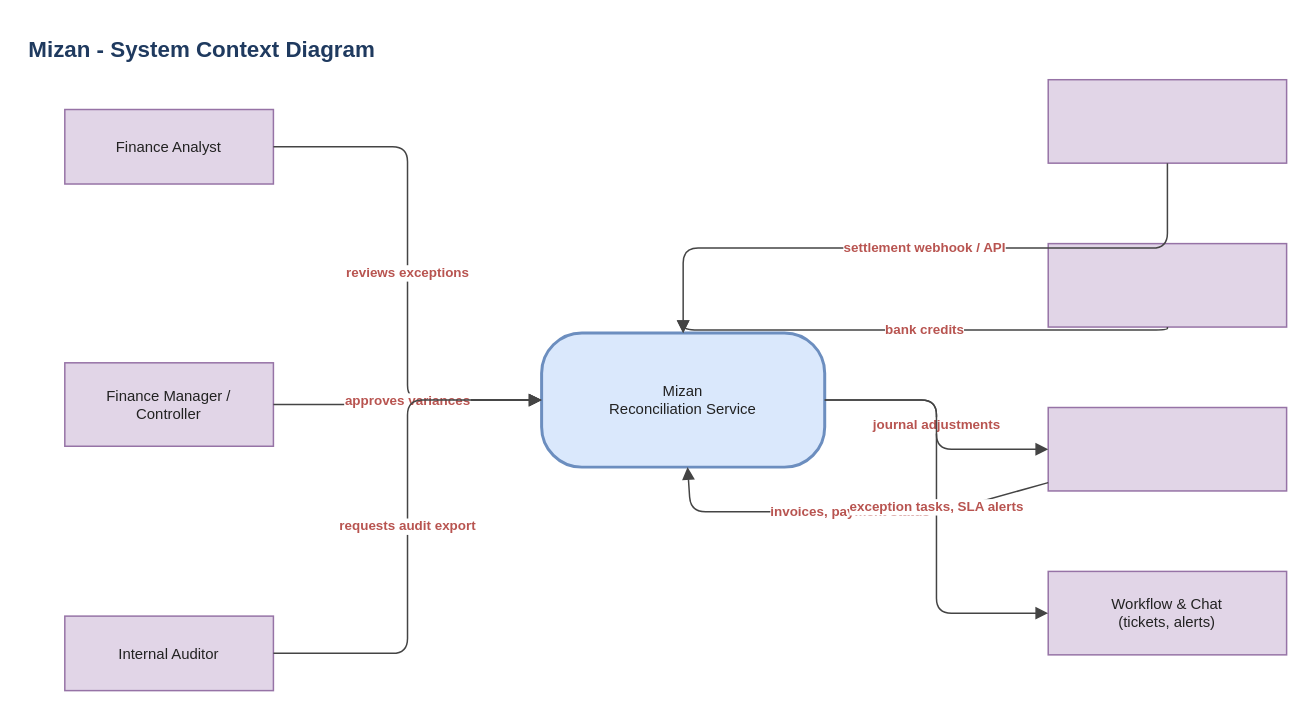
Some shapes in this 1313 by 717 pixel diagram are drawn without their labels. The box of each missing label's shape, as (x1, y1, x2, y2) in pixels:
Bank (statement API / MT940): (1047, 242, 1287, 327)
ERP / General Ledger: (1047, 406, 1287, 491)
Payment Gateways (GW-A, GW-B): (1047, 78, 1287, 163)
